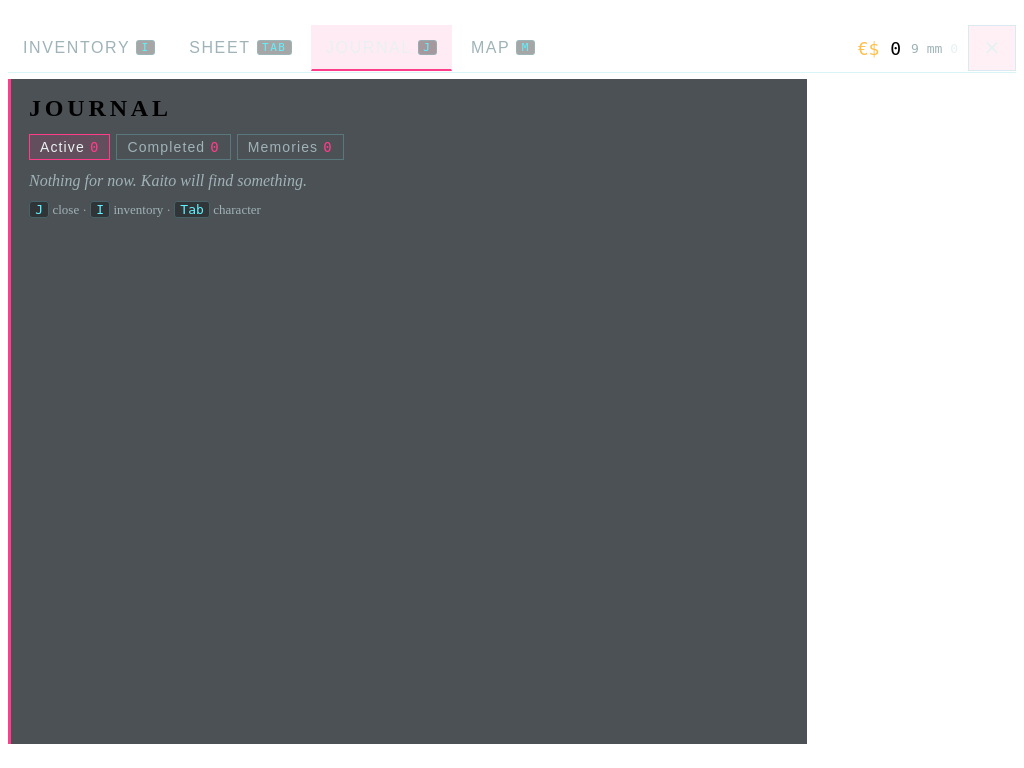
Test case: journal › says so when a tab is empty
Expected: the text "Nothing for now. Kaito will find something." is shown, [29,172,307,189]
Click the tab "Completed 0" at point(174, 147), box [116,134,231,160]
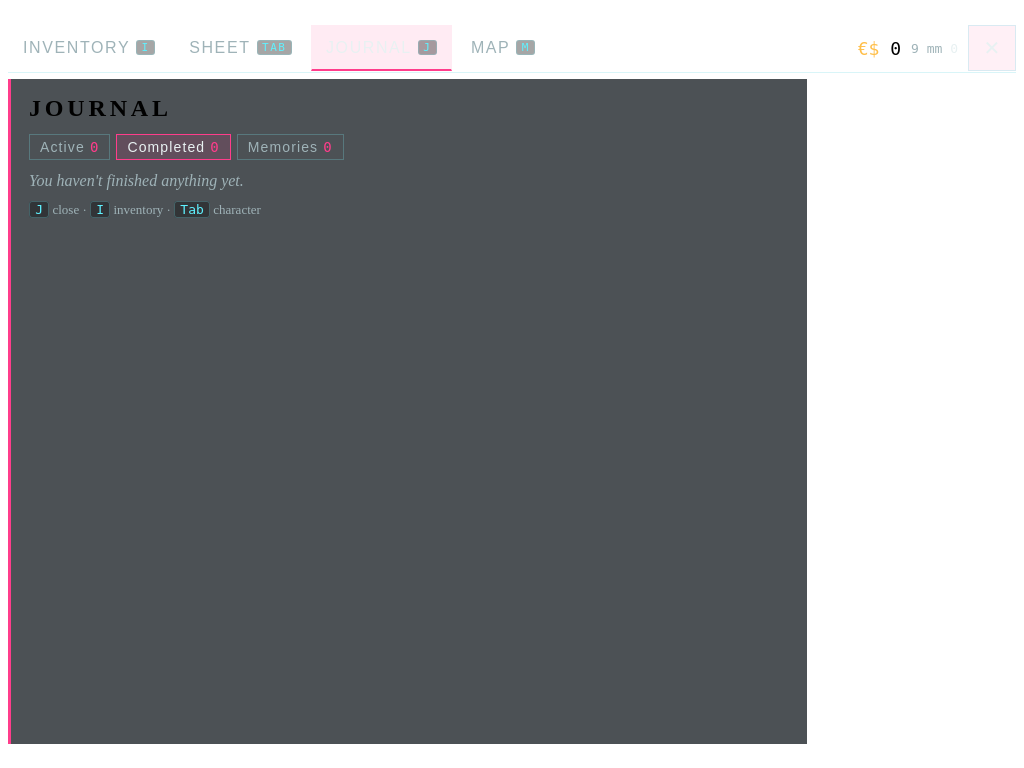
Now the text "You haven't finished anything yet." is shown, box [29,172,244,189]
Click the tab "Memories 0" at point(290, 147), box [237,134,344,160]
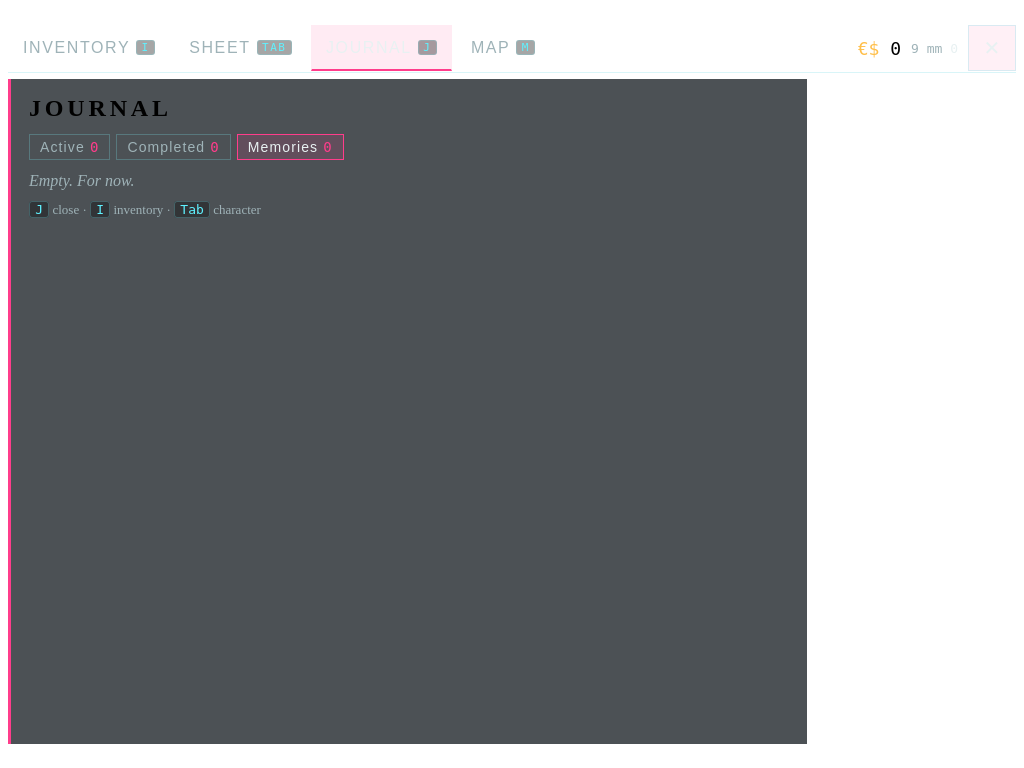
Now the text "Empty. For now." is shown, box [29,172,134,189]
